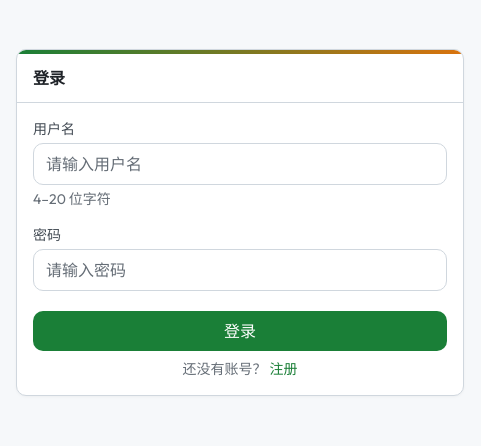
Scenario: Login Flow › should_show_error_when_login_fails
This screenshot has width=481, height=446.
Type "bad" into the field labelled "用户名".
click(240, 164); type("bad")  # box left=33, top=143, right=447, bottom=185
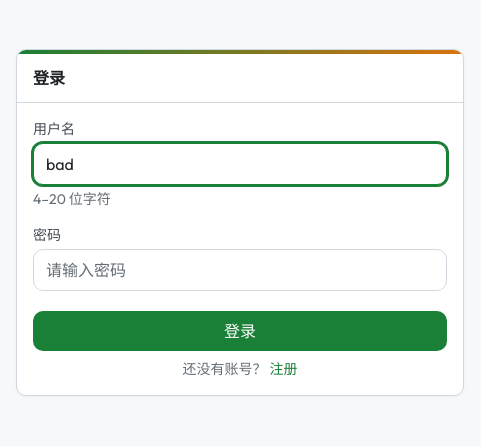
Type "bad" into the password field labelled "密码".
click(240, 270); type("bad")  # box left=33, top=249, right=447, bottom=291
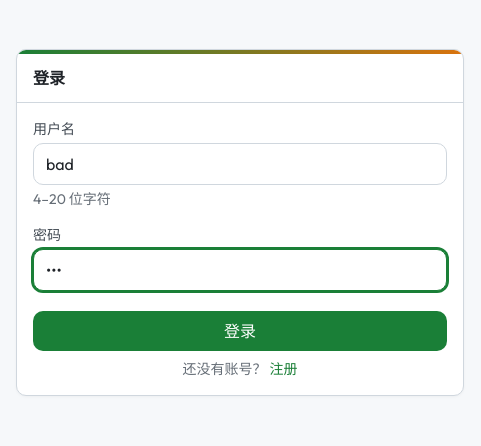
Click the submit button.
click(240, 331)  # box left=33, top=311, right=447, bottom=351
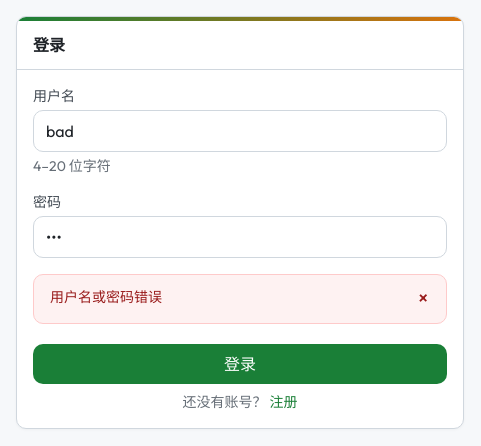
expect the message "用户名或密码错误 ×" is shown: met, box left=33, top=274, right=447, bottom=324
